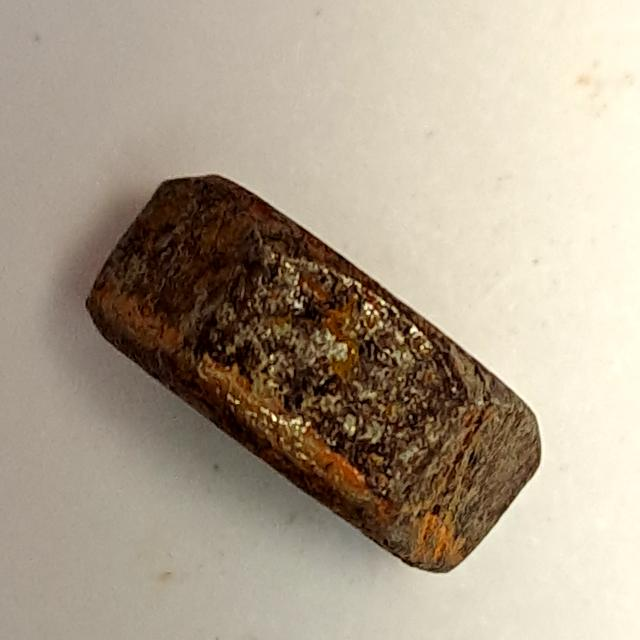Rust: (64, 164, 561, 589)
